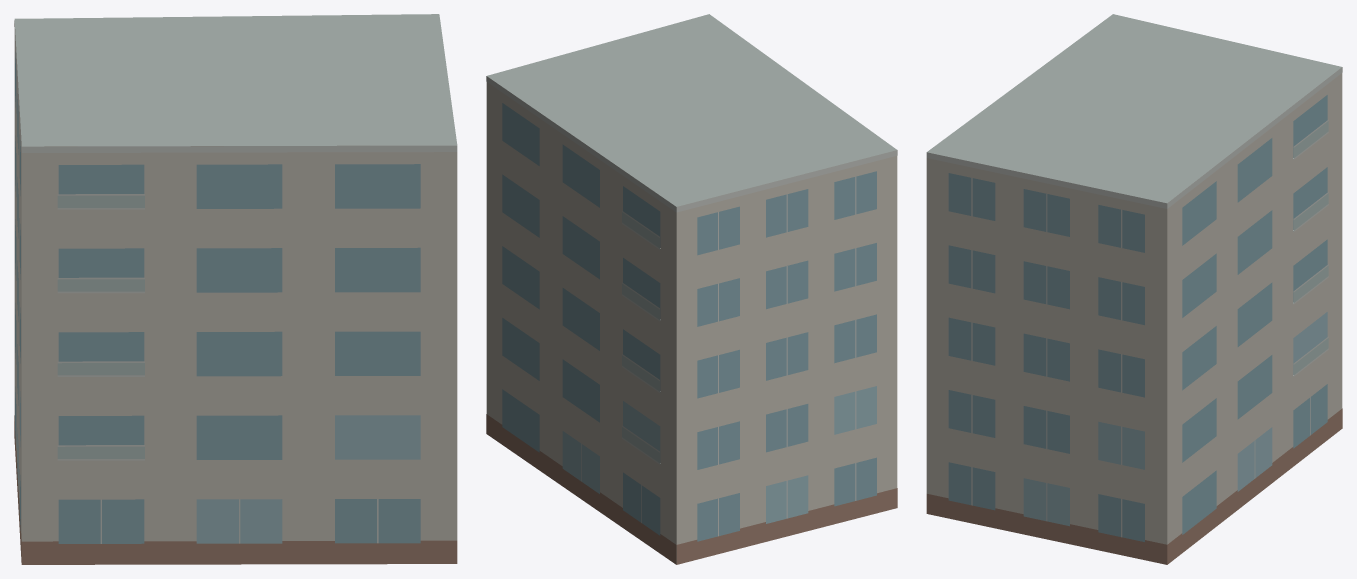
File: survey-upis-32658297.glb
3 views of the same model, side by side, from view 1: azimuth 30°, elevation 25°; view 2: azimuth 150°, elevation 25°; view 3: azimuth 270°, elevation 25° (orthographic). The views are drawn at different scales.
Visible parts, largest first — view 1: survey-upis-32658297.tmp; view 2: survey-upis-32658297.tmp; view 3: survey-upis-32658297.tmp.
Boxes of the visible parts, x1=… form: survey-upis-32658297.tmp: x1=14, y1=14, x2=457, y2=564; survey-upis-32658297.tmp: x1=486, y1=14, x2=897, y2=564; survey-upis-32658297.tmp: x1=926, y1=14, x2=1342, y2=564.
Size of the model in its own units: 17.42 by 15.5 by 16.17.
